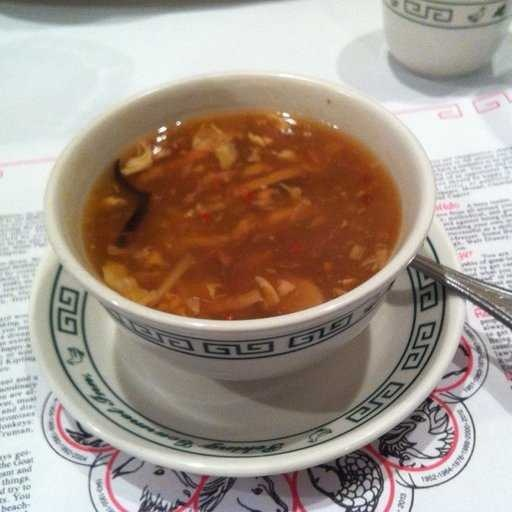soup: (57, 105, 390, 307)
